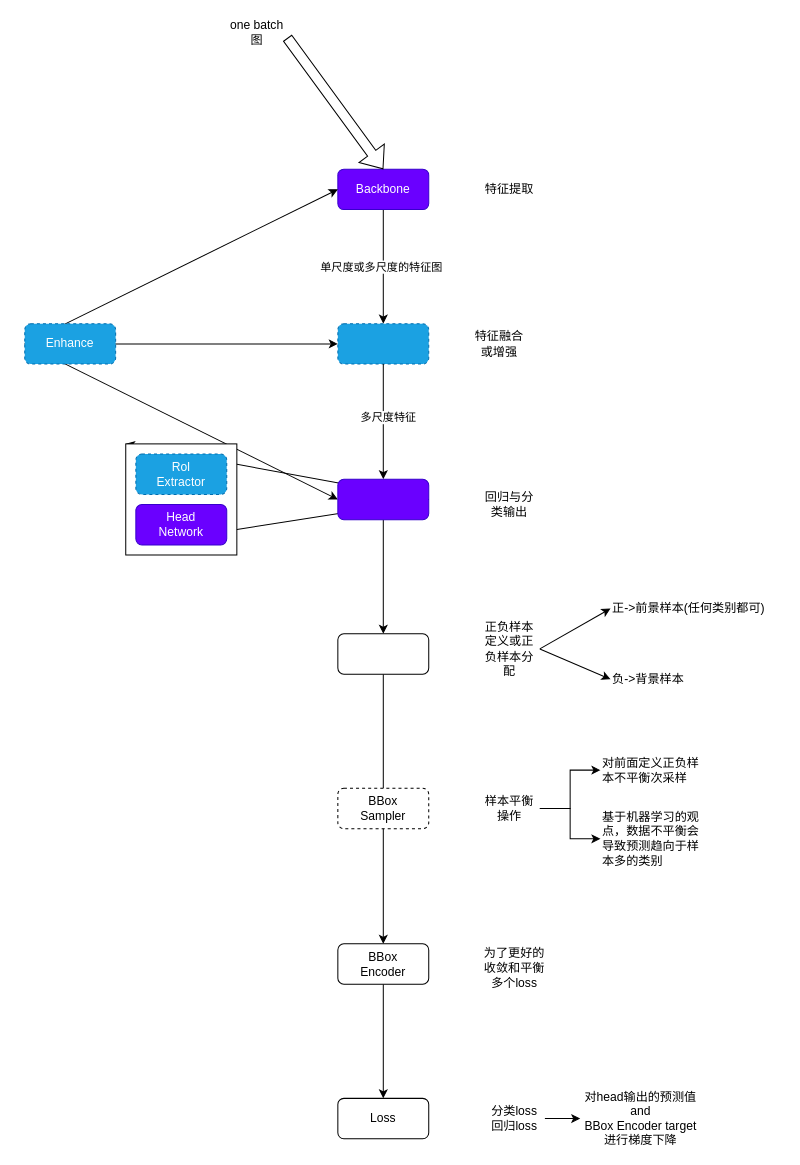
Some shapes in this 800 by 1165 pixel diagram are drawn without their labels. Here are the shapes that lost their labels. From the top down, the centre of each, then its label:
point (383, 343): Neck
point (383, 499): Head
point (383, 653): BBox Assigner
